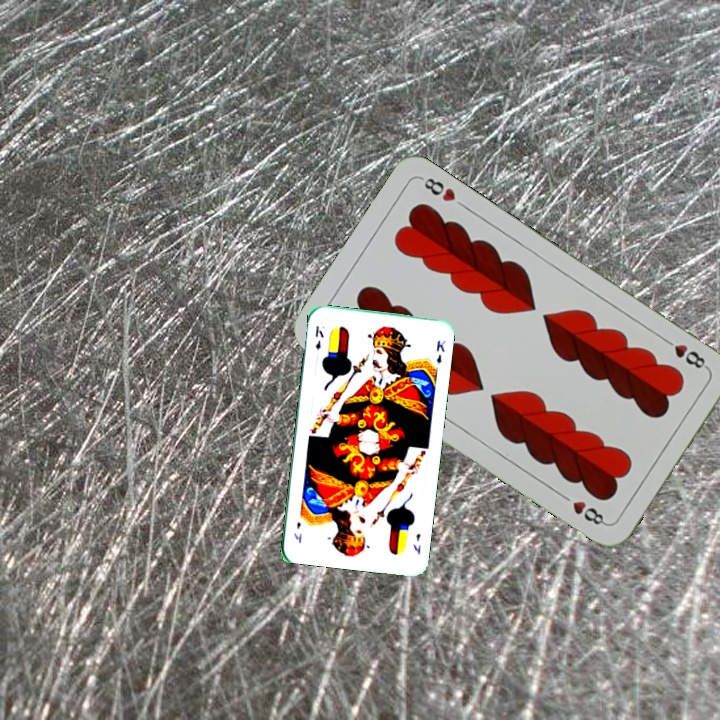EK: (311, 322, 326, 353), (409, 529, 423, 557)
H8: (658, 334, 711, 372)
